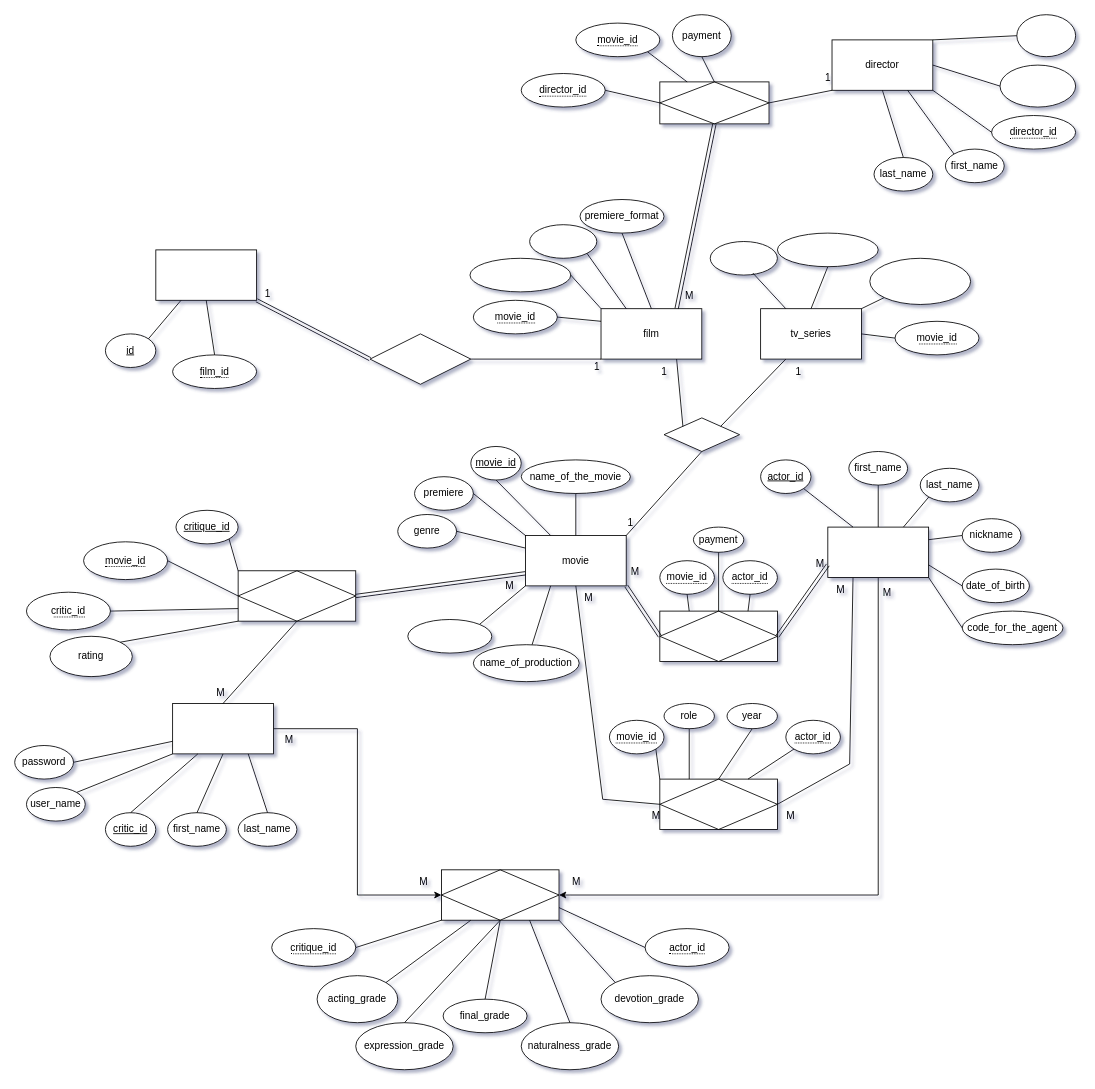
Image size: 1095x1089. Some labels were removed from this diagram. The shapes that lost their labels are listed below. From the top down, each one's box as (x1, y1, x2, y2) in pixels, then its label:
(1016, 14, 1076, 57): expertise
(659, 81, 769, 124): director_film
(999, 64, 1076, 107): genre_they_ mostly_direct
(529, 224, 597, 258): premiere_city
(709, 241, 777, 275): TV_channel
(777, 232, 878, 267): number_of_episodes
(155, 249, 257, 300): sequel
(469, 257, 571, 292): first_week_revenue
(869, 257, 971, 304): number_of _expected_seasons
(369, 333, 471, 384): have
(663, 417, 740, 452): IS
(827, 526, 929, 578): actor
(237, 570, 356, 621): critique
(407, 619, 492, 653): country_of_origin
(659, 610, 777, 662): actor_movie
(172, 703, 273, 754): critic
(659, 778, 777, 830): oscar_winner
(441, 869, 559, 920): actor_critic
